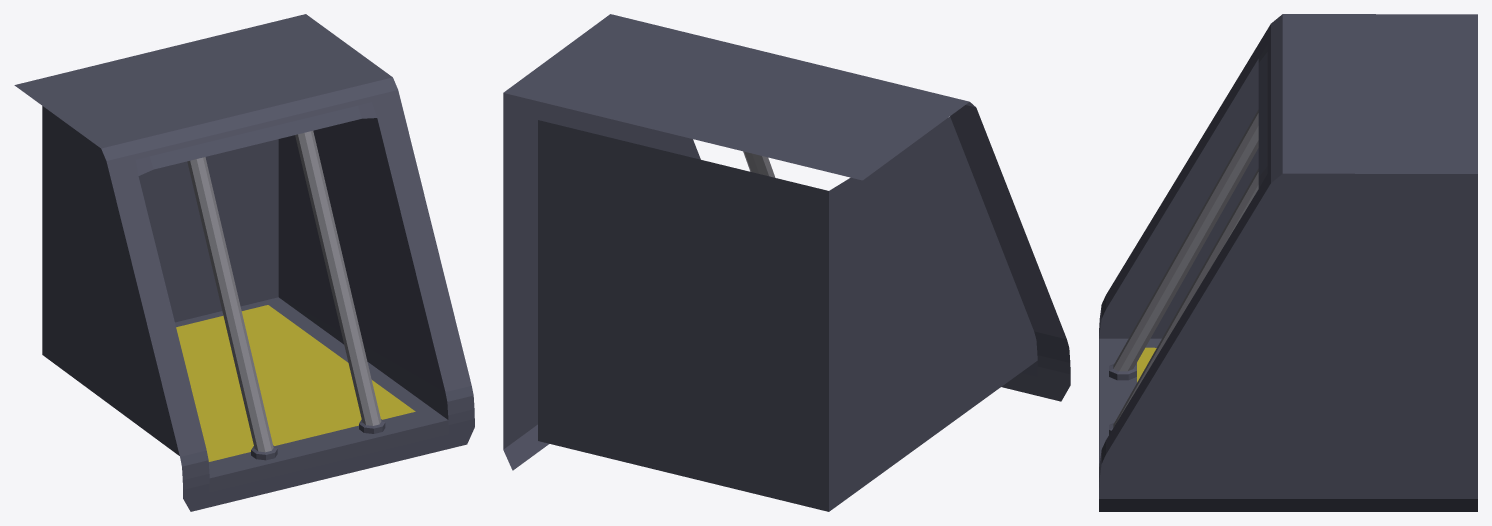
File: RightSideCage.fbx
3 views of the same model, side by side, from view 1: azimuth 30°, elevation 25°; view 2: azimuth 150°, elevation 25°; view 3: azimuth 270°, elevation 25° (orthographic). The views are drawn at different scales.
Parts seen in each view (by area): view 1: AllFacesCage; view 2: AllFacesCage; view 3: AllFacesCage.
Part boxes in pixels (x1,y1,x2,y2): AllFacesCage: [14, 14, 474, 511]; AllFacesCage: [503, 14, 1070, 511]; AllFacesCage: [1099, 14, 1477, 511].
Size of the model in its own units: 100 by 100 by 100.
